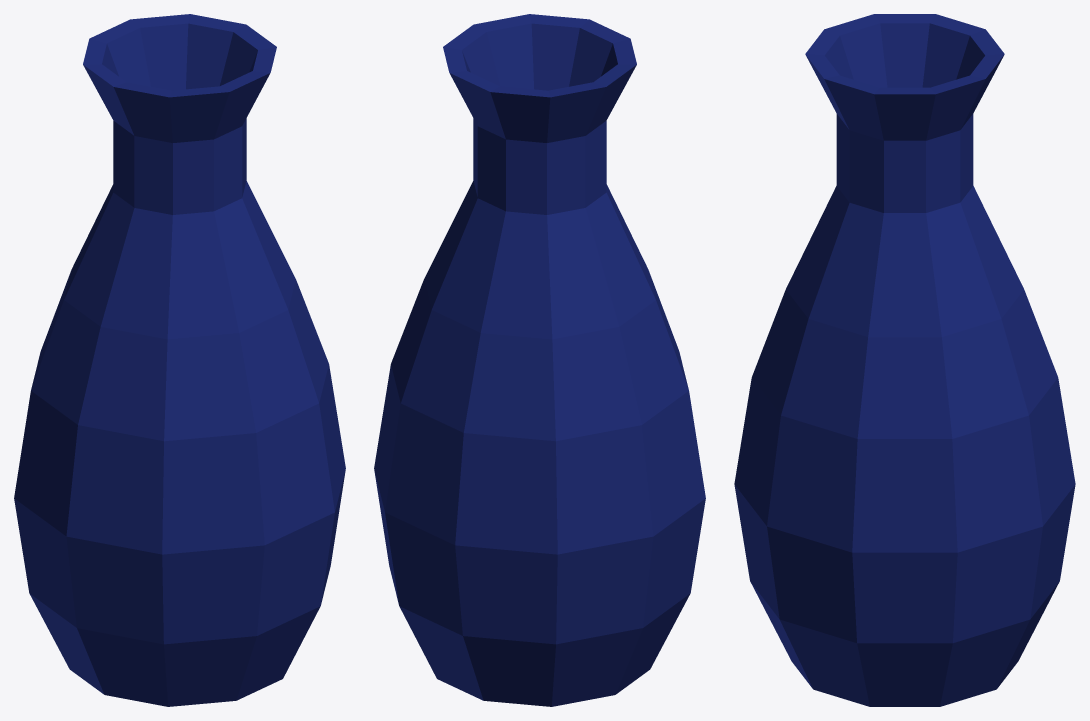
File: vase02.obj
The picture shows the model from 3 angles, left to right: view 1: azimuth 30°, elevation 25°; view 2: azimuth 150°, elevation 25°; view 3: azimuth 270°, elevation 25°; orthographic projection.
Visible parts, largest first — view 1: Cylinder; view 2: Cylinder; view 3: Cylinder.
Part boxes in pixels (bbox=[...]): Cylinder: bbox=[14, 14, 345, 706]; Cylinder: bbox=[374, 14, 705, 706]; Cylinder: bbox=[734, 14, 1075, 706].
Bounding box in the file's own units: 0.1485 × 0.3067 × 0.1562.
